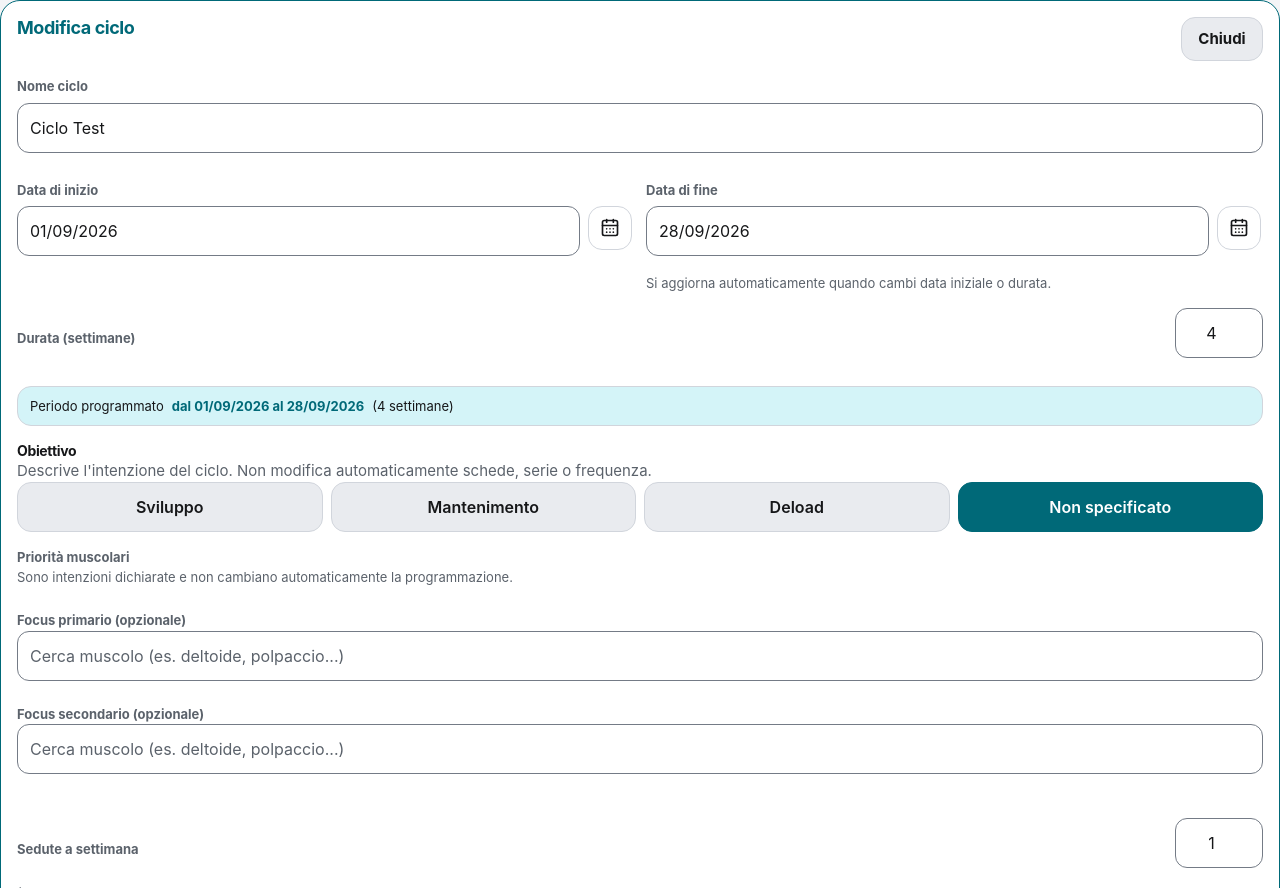
Test: Training Cycle End Date & Two-Way Binding (Milestone 2 - Requirement R5) › 3. CycleEditor Component Two-Way Binding & UI Behavior › two-way binding: changing durationWeeks updates endDate automatically
The image size is (1280, 888).
Expected: the field labelled "Data di fine" holds "28/09/2026", left=646, top=206, right=1209, bottom=256
Note: Change duration to 8 weeks
Replace the text in the number field labelled "Durata (settimane)" with "8" at [1219, 333], box left=1175, top=308, right=1263, bottom=358
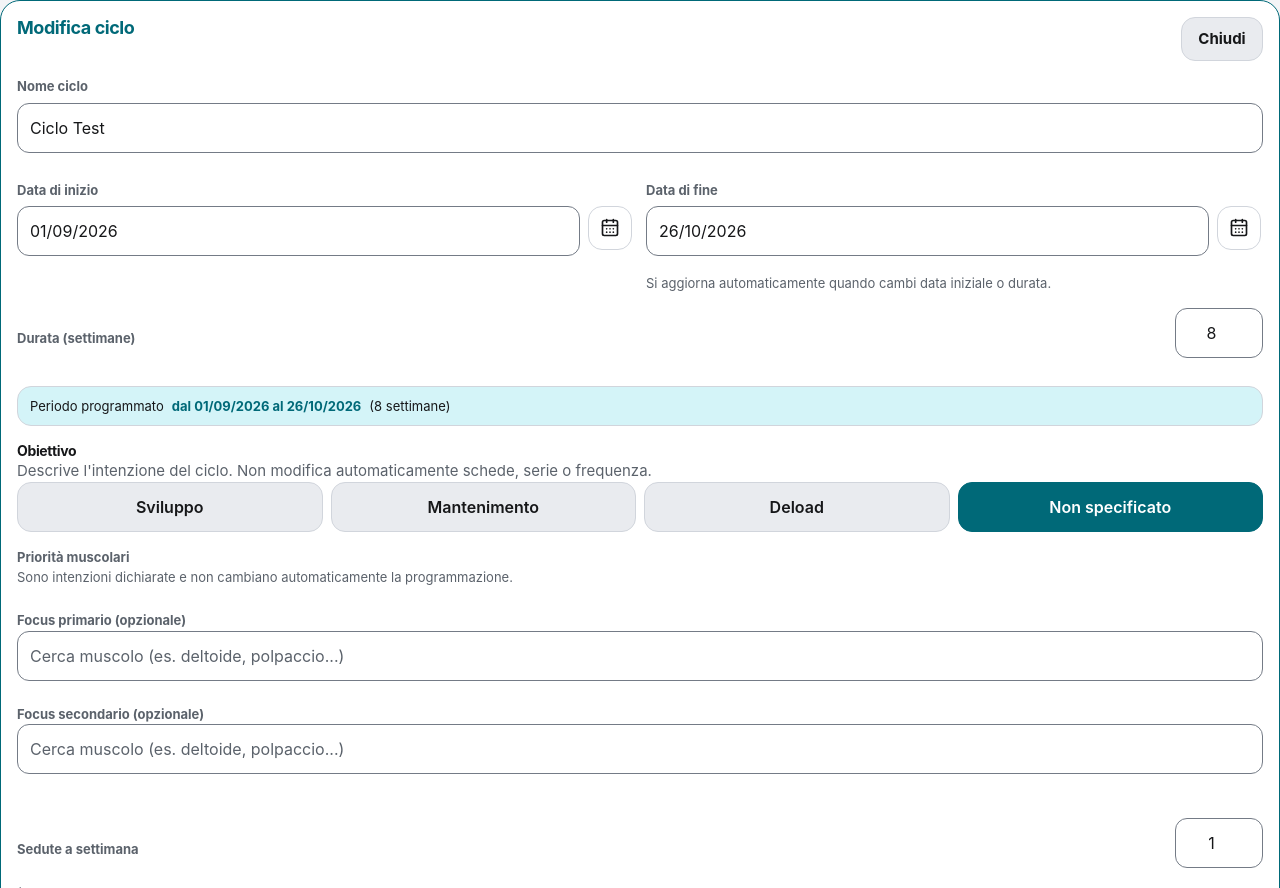
Now the field labelled "Data di fine" holds "26/10/2026", box left=646, top=206, right=1209, bottom=256
